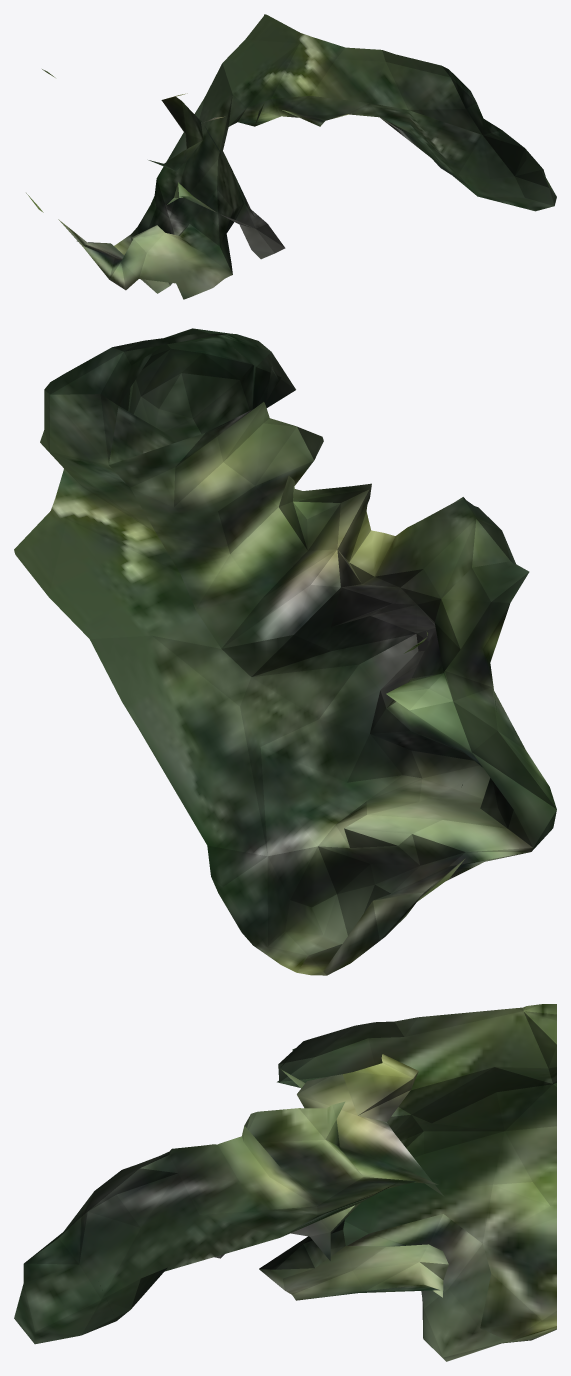
3 renders of one model, top to bottom at view 1: azimuth 30°, elevation 25°; view 2: azimuth 150°, elevation 25°; view 3: azimuth 270°, elevation 25°, orthographic. The views are drawn at different scales.
Bounding box in the file's own units: 12.08 × 6.92 × 11.3.
Materials: 1 (1 with a texture image).
